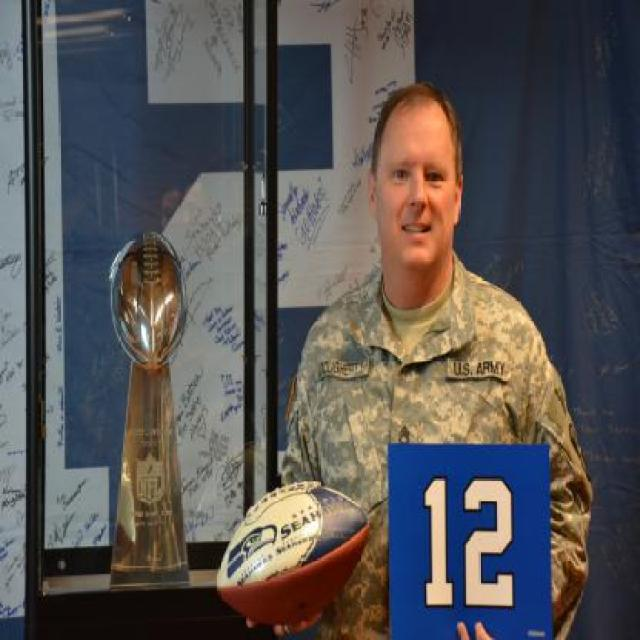Person: (274, 82, 595, 640)
